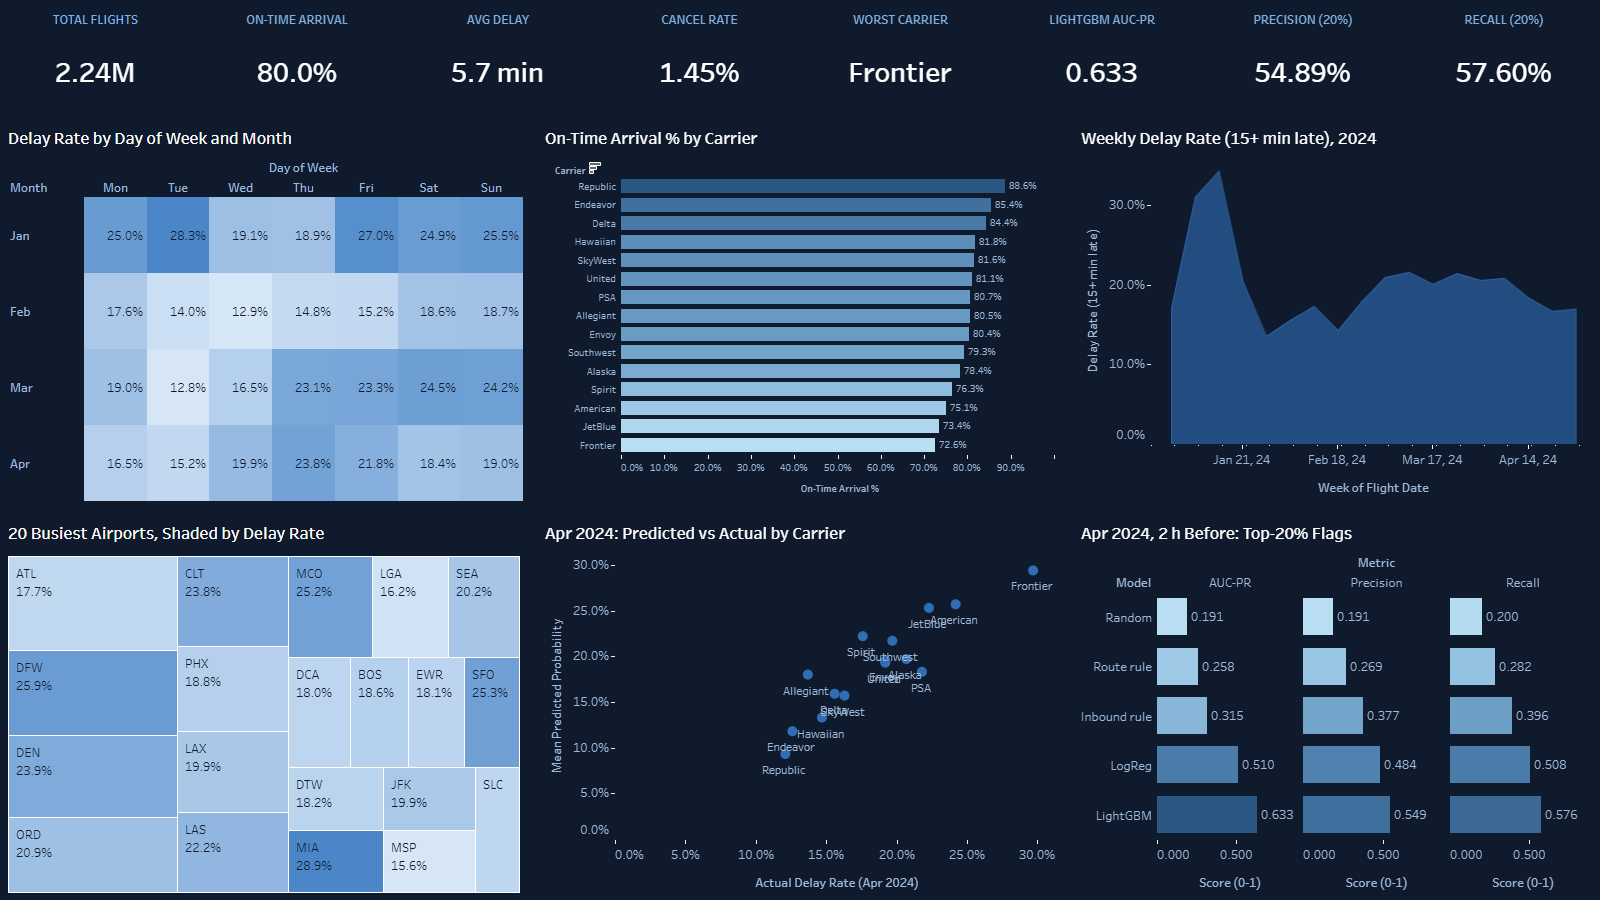

The dashboard page shown, as its layout file describes it:
{"tool":"tableau","page":{"name":"US Flight Delays and Delay Model (Jan-Apr 2024)","canvas":[1600,900],"ordinal":0},"visuals":[{"type":"worksheet","title":"TOTAL FLIGHTS","mark":"Text","box":[9.6,5.4,189.2,108]},{"type":"worksheet","title":"ON-TIME ARRIVAL","mark":"Text","box":[208.4,5.4,189.2,108]},{"type":"worksheet","title":"AVG DELAY","mark":"Text","box":[407.2,5.4,189.2,108]},{"type":"worksheet","title":"CANCEL RATE","mark":"Text","box":[606,5.4,189.2,108]},{"type":"worksheet","title":"WORST CARRIER","mark":"Text","box":[804.8,5.4,189.2,108]},{"type":"worksheet","title":"LIGHTGBM AUC-PR","mark":"Text","box":[1003.6,5.4,189.2,108]},{"type":"worksheet","title":"PRECISION (20%)","mark":"Text","box":[1202.4,5.4,189.2,108]},{"type":"worksheet","title":"RECALL (20%)","mark":"Text","box":[1401.2,5.4,189.2,108]},{"type":"worksheet","title":"Delay Rate by Day of Week and Month","mark":"Square","rows":["month_name"],"cols":["day_name"],"box":[9.6,118.8,520.5,385.2]},{"type":"worksheet","title":"On-Time Arrival % by Carrier","mark":"Bar","rows":["carrier"],"cols":["on_time_rate"],"box":[539.7,118.8,520.5,385.2]},{"type":"worksheet","title":"Weekly Delay Rate (15+ min late), 2024","mark":"Area","rows":["delay_rate"],"cols":["flight_week"],"box":[1069.9,118.8,520.5,385.2]},{"type":"worksheet","title":"20 Busiest Airports, Shaded by Delay Rate","mark":"Square","box":[9.6,509.4,520.5,385.2]},{"type":"worksheet","title":"Apr 2024: Predicted vs Actual by Carrier","mark":"Circle","rows":["predicted_rate"],"cols":["actual_rate"],"box":[539.7,509.4,520.5,385.2]},{"type":"worksheet","title":"Apr 2024, 2 h Before: Top-20% Flags","mark":"Bar","rows":["model"],"cols":["metric","value"],"box":[1069.9,509.4,520.5,385.2]}]}

Visuals, with their boxes in screenshot pixels (x1, y1, x2, y2), scaled from the page's 1600x900 canvas onto the 1600x900 screenshot:
"TOTAL FLIGHTS" worksheet (Text marks): bbox=(10, 5, 199, 113)
"ON-TIME ARRIVAL" worksheet (Text marks): bbox=(208, 5, 398, 113)
"AVG DELAY" worksheet (Text marks): bbox=(407, 5, 596, 113)
"CANCEL RATE" worksheet (Text marks): bbox=(606, 5, 795, 113)
"WORST CARRIER" worksheet (Text marks): bbox=(805, 5, 994, 113)
"LIGHTGBM AUC-PR" worksheet (Text marks): bbox=(1004, 5, 1193, 113)
"PRECISION (20%)" worksheet (Text marks): bbox=(1202, 5, 1392, 113)
"RECALL (20%)" worksheet (Text marks): bbox=(1401, 5, 1590, 113)
"Delay Rate by Day of Week and Month" worksheet (Square marks): bbox=(10, 119, 530, 504)
"On-Time Arrival % by Carrier" worksheet (Bar marks): bbox=(540, 119, 1060, 504)
"Weekly Delay Rate (15+ min late), 2024" worksheet (Area marks): bbox=(1070, 119, 1590, 504)
"20 Busiest Airports, Shaded by Delay Rate" worksheet (Square marks): bbox=(10, 509, 530, 895)
"Apr 2024: Predicted vs Actual by Carrier" worksheet (Circle marks): bbox=(540, 509, 1060, 895)
"Apr 2024, 2 h Before: Top-20% Flags" worksheet (Bar marks): bbox=(1070, 509, 1590, 895)
